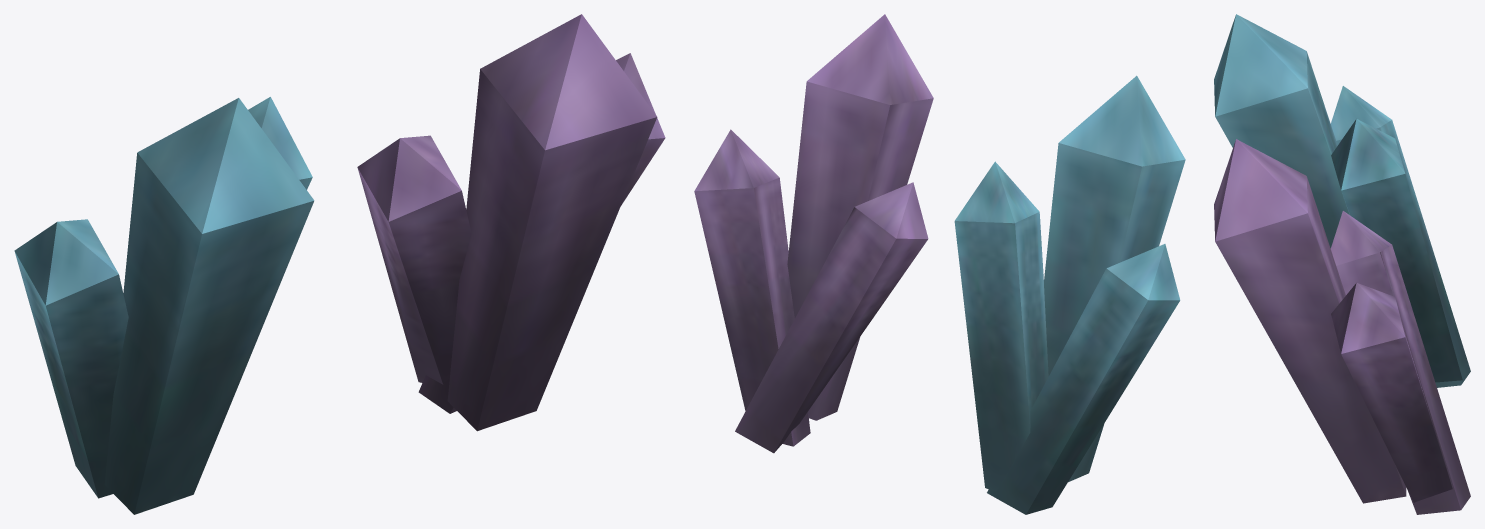
Rendered from CristalesConocimiento.fbx.
3 views of the same model, side by side, from view 1: azimuth 30°, elevation 25°; view 2: azimuth 150°, elevation 25°; view 3: azimuth 270°, elevation 25° (orthographic). The views are drawn at different scales.
Parts seen in each view (by area): view 1: Cristal, Cristal1; view 2: Cristal, Cristal1; view 3: Cristal1, Cristal.
Part boxes in pixels (x1,y1,x2,y2): Cristal: (14,97,314,514); Cristal1: (357,14,665,431); Cristal: (954,75,1185,514); Cristal1: (694,14,933,453); Cristal1: (1214,139,1470,514); Cristal: (1214,14,1470,387).
Bounding box in the file's own units: 35.98 × 27.1 × 17.21.
